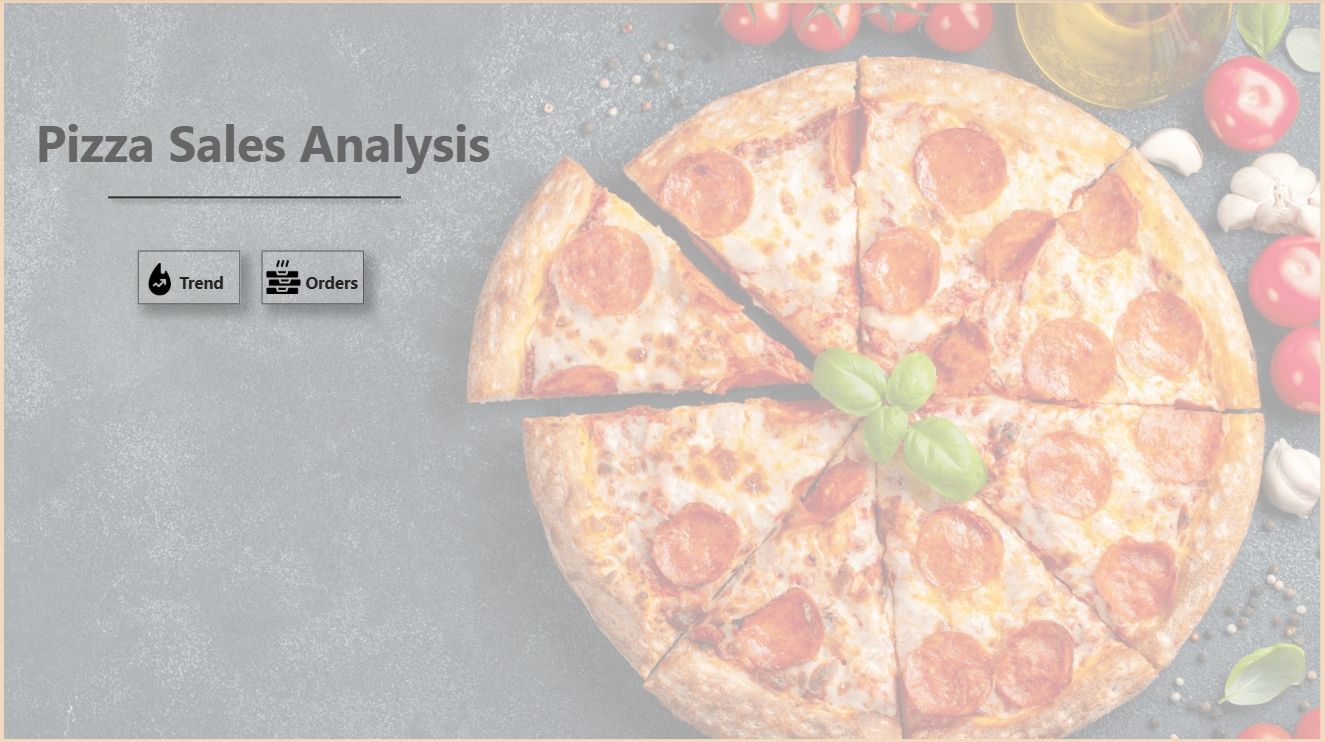

The page's visual inventory and layout, read from the dashboard file:
{"tool":"powerbi","page":{"name":"Home","canvas":[1280,720],"ordinal":0},"visuals":[{"type":"image","box":[0,0,1280,720],"z":0},{"type":"textbox","box":[30.2,101.3,470.5,74.8],"z":1000},{"type":"group","id":"g1","title":"Group 1","box":[131.7,243.7,107.4,51.9],"z":2000},{"type":"group","id":"g2","title":"Group 2","box":[253.6,243.7,107.4,51.9],"z":3000},{"type":"shape","box":[96.5,170.1,300.4,44.6],"z":4000},{"type":"image","box":[131.7,250.9,47.1,41],"z":9000,"group":"g1"},{"type":"actionButton","box":[133.7,243.7,98.9,51.9],"z":10500,"group":"g1"},{"type":"image","box":[253.6,244.9,42.2,49.5],"z":11000,"group":"g2"},{"type":"textbox","box":[169.1,258.2,70,35],"z":12000,"group":"g1"},{"type":"actionButton","box":[253.6,243.7,98.9,51.9],"z":12002,"group":"g2"},{"type":"textbox","box":[291,258.2,70,35],"z":12502,"group":"g2"}]}

Visuals, with their boxes in screenshot pixels (x1, y1, x2, y2), scaled from the page's 1280x720 canvas onto the 1325x742 screenshot:
image: x1=0 y1=0 x2=1324 y2=741
textbox: x1=31 y1=104 x2=518 y2=181
"Group 1" group: x1=136 y1=251 x2=248 y2=305
"Group 2" group: x1=263 y1=251 x2=374 y2=305
shape: x1=100 y1=175 x2=411 y2=221
image: x1=136 y1=259 x2=185 y2=301
actionButton: x1=138 y1=251 x2=241 y2=305
image: x1=263 y1=252 x2=306 y2=303
textbox: x1=175 y1=266 x2=248 y2=302
actionButton: x1=263 y1=251 x2=365 y2=305
textbox: x1=301 y1=266 x2=374 y2=302
